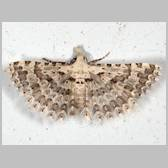Alucitidae: (3, 43, 160, 125)
moth: (4, 43, 161, 125)
